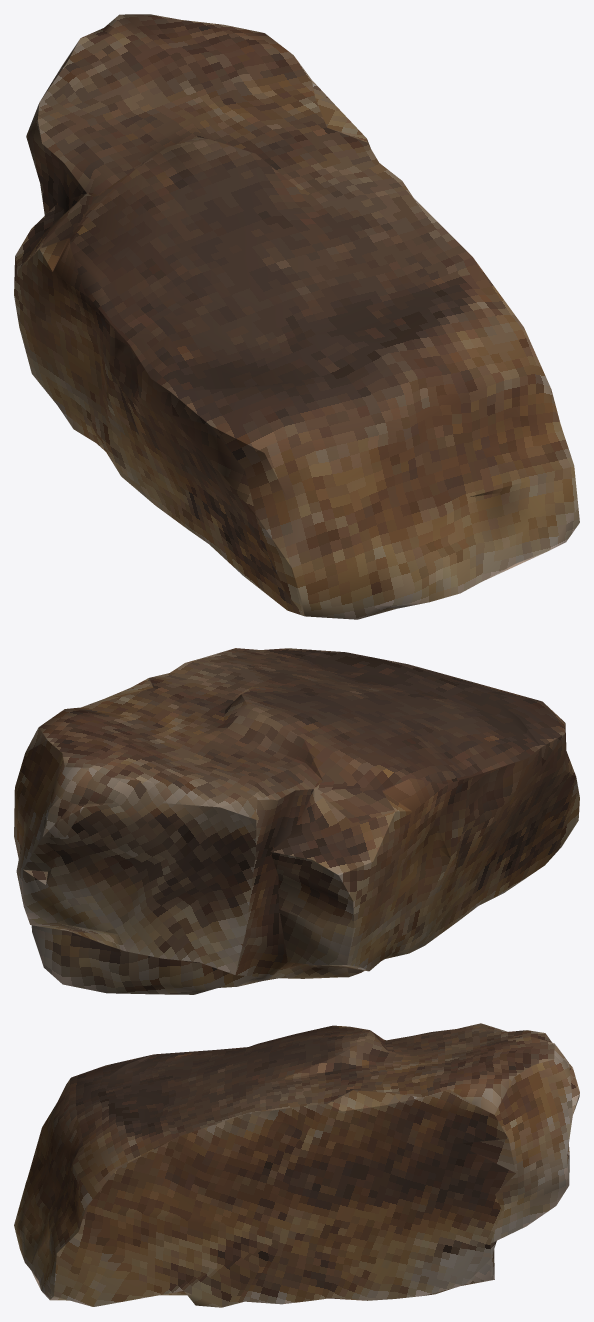
The model's file is rock_07.glb.
3 renders of one model, top to bottom at view 1: azimuth 30°, elevation 25°; view 2: azimuth 150°, elevation 25°; view 3: azimuth 270°, elevation 25°, orthographic. The views are drawn at different scales.
Parts seen in each view (by area): view 1: rock_07; view 2: rock_07; view 3: rock_07.
Boxes of the visible parts, bbox=[...] form: rock_07: bbox=[14, 14, 579, 619]; rock_07: bbox=[14, 648, 579, 994]; rock_07: bbox=[14, 1023, 579, 1307].
Size of the model in its own units: 0.1657 by 0.1427 by 0.3207.
Materials: 1 (1 with a texture image).
